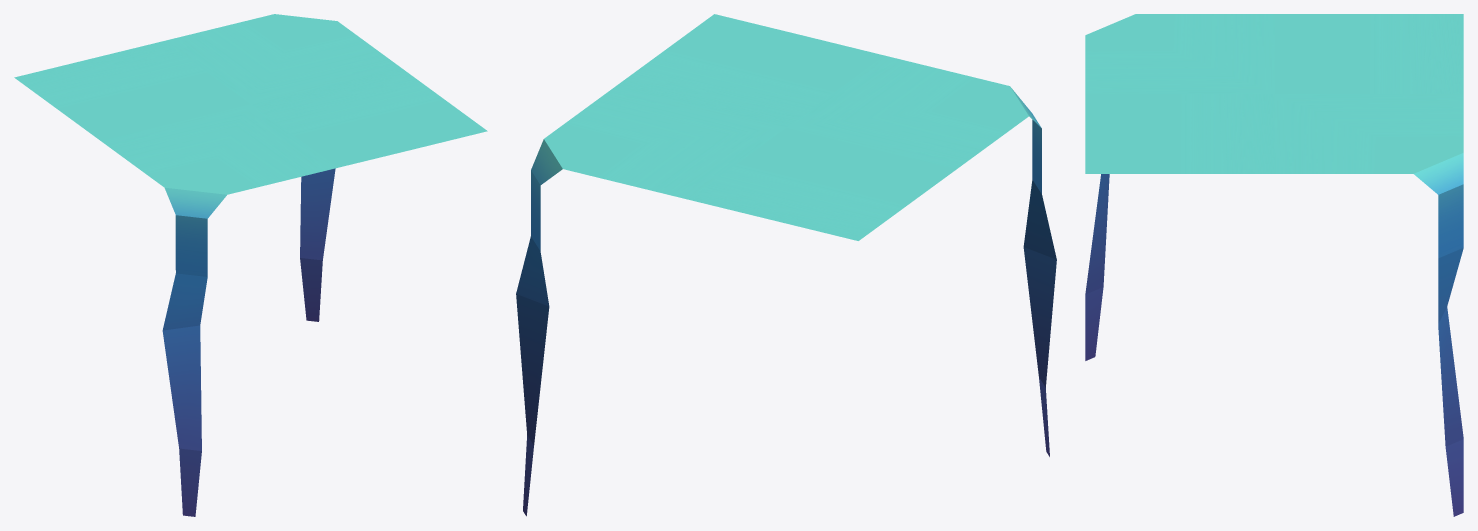
3 renders of one model, left to right at view 1: azimuth 30°, elevation 25°; view 2: azimuth 150°, elevation 25°; view 3: azimuth 270°, elevation 25°, orthographic. The views are drawn at different scales.
Parts seen in each view (by area): view 1: TopNoWalls.004, TopNoWalls.006, TopInnerCorner.017, TopInnerCorner.007, InnerCorner.008, InnerCorner.018; view 2: TopNoWalls.006, TopNoWalls.004, TopInnerCorner.017, TopInnerCorner.007, InnerCorner.018, InnerCorner.008; view 3: TopNoWalls.004, TopNoWalls.006, TopInnerCorner.007, TopInnerCorner.017, InnerCorner.018, InnerCorner.008.
Part boxes in pixels (x1,y1,x2,y2): TopNoWalls.004: [14, 41, 250, 140]; TopNoWalls.006: [251, 68, 487, 167]; TopInnerCorner.017: [165, 14, 400, 104]; TopInnerCorner.007: [101, 104, 337, 194]; InnerCorner.008: [162, 187, 226, 516]; InnerCorner.018: [300, 168, 335, 321]; TopNoWalls.006: [616, 14, 884, 127]; TopNoWalls.004: [688, 127, 956, 240]; TopInnerCorner.017: [544, 86, 785, 199]; TopInnerCorner.007: [787, 55, 1028, 168]; InnerCorner.018: [516, 139, 562, 516]; InnerCorner.008: [1011, 88, 1056, 456]; TopNoWalls.004: [1274, 14, 1463, 93]; TopNoWalls.006: [1085, 94, 1274, 173]; TopInnerCorner.007: [1085, 14, 1274, 93]; TopInnerCorner.017: [1274, 94, 1463, 173]; InnerCorner.018: [1414, 153, 1463, 516]; InnerCorner.008: [1085, 174, 1109, 360].
Size of the model in its own units: 653 by 600 by 600.
